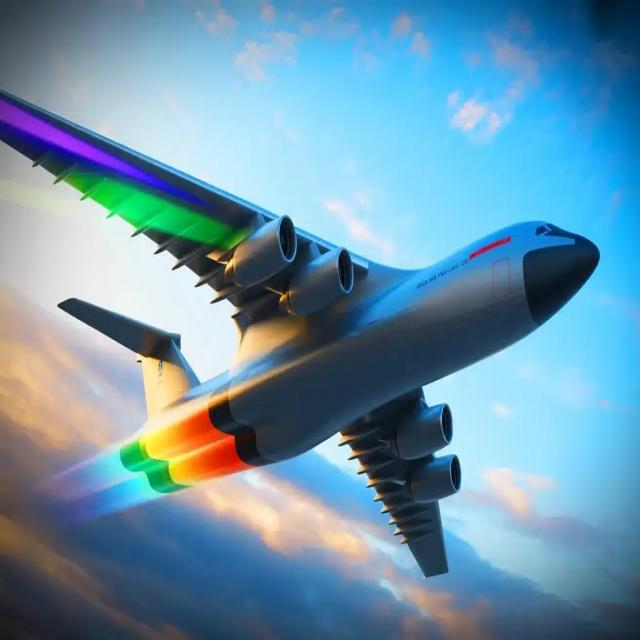aircraft: (0, 0, 631, 640)
